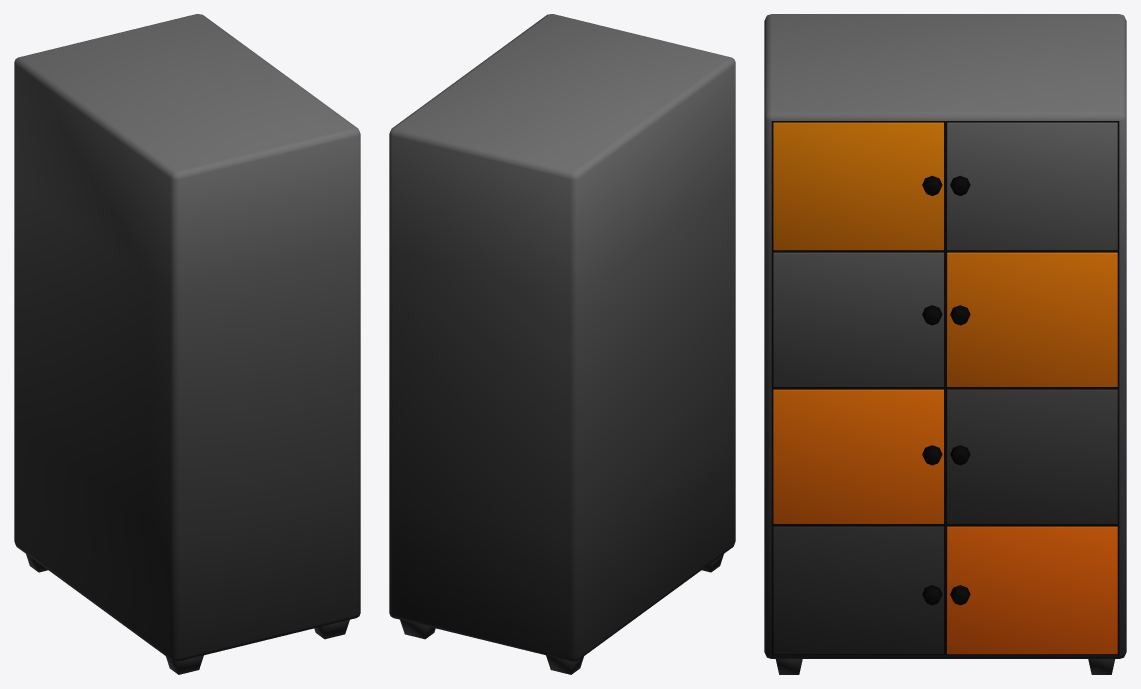
The model's file is SM_dolap.fbx.
The picture shows the model from 3 angles, left to right: view 1: azimuth 30°, elevation 25°; view 2: azimuth 150°, elevation 25°; view 3: azimuth 270°, elevation 25°; orthographic projection. The views are drawn at different scales.
Parts seen in each view (by area): view 1: Cube.010; view 2: Cube.010; view 3: Cube.010.
Part boxes in pixels (bbox=[...]): Cube.010: bbox=[14, 14, 360, 674]; Cube.010: bbox=[389, 14, 735, 674]; Cube.010: bbox=[764, 14, 1126, 674].
Size of the model in its own units: 85.3 by 207 by 120.
